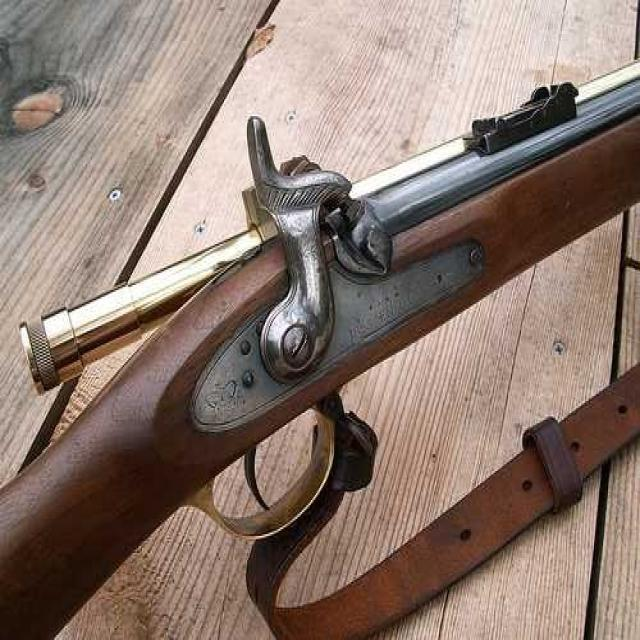heavyweapon: (1, 31, 640, 640)
